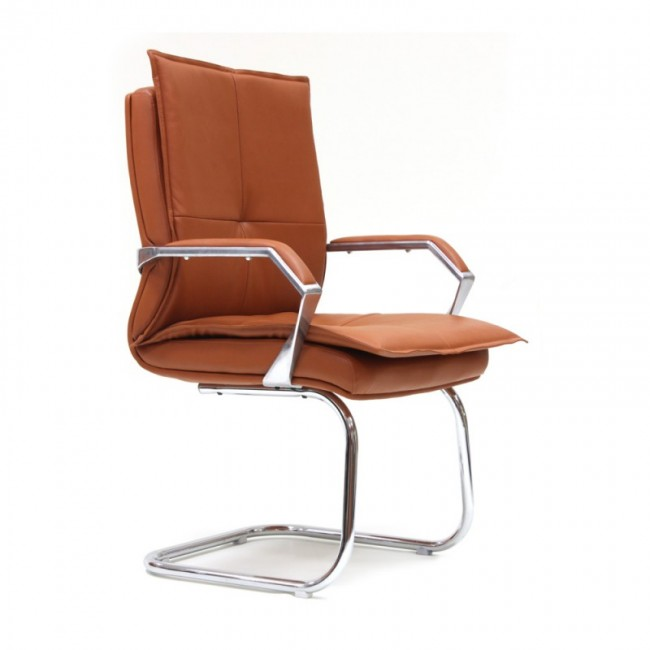chairs: (116, 43, 530, 602)
